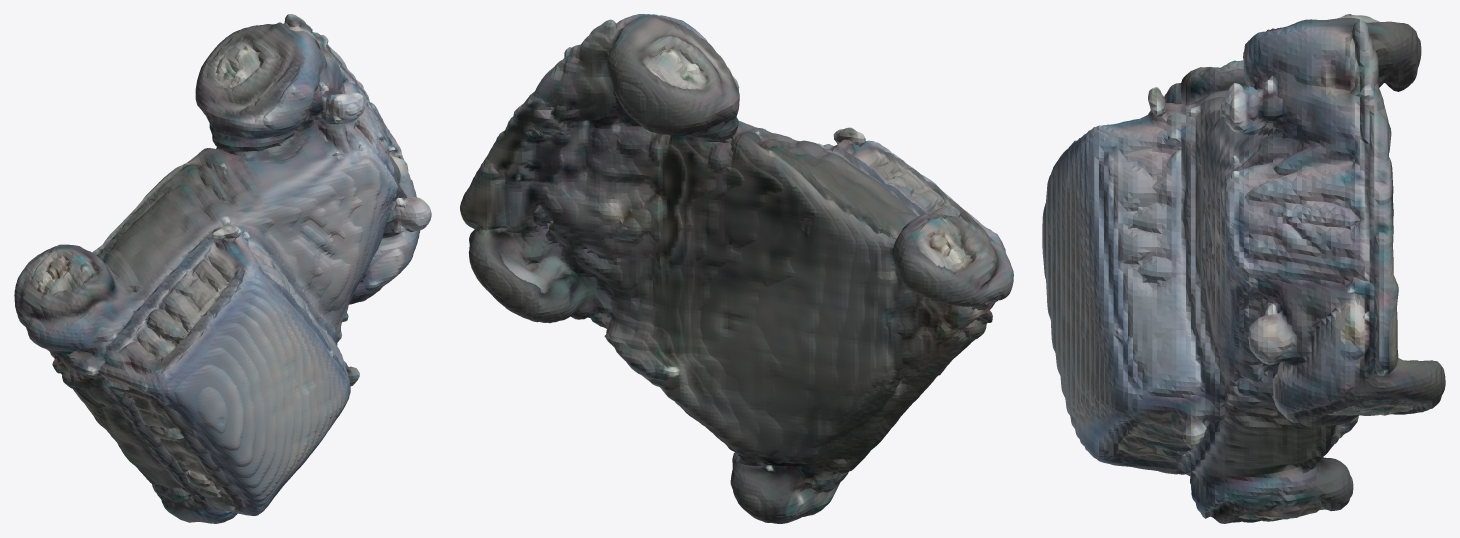
File: car_raw.glb
3 renders of one model, left to right at view 1: azimuth 30°, elevation 25°; view 2: azimuth 150°, elevation 25°; view 3: azimuth 270°, elevation 25°, orthographic. The views are drawn at different scales.
Visible parts, largest first — view 1: world; view 2: world; view 3: world.
Part boxes in pixels (x1,y1,x2,y2): world: (14, 14, 431, 523); world: (460, 14, 1013, 523); world: (1042, 14, 1445, 523).
Bounding box in the file's own units: 0.9461 × 0.9174 × 0.5696.
